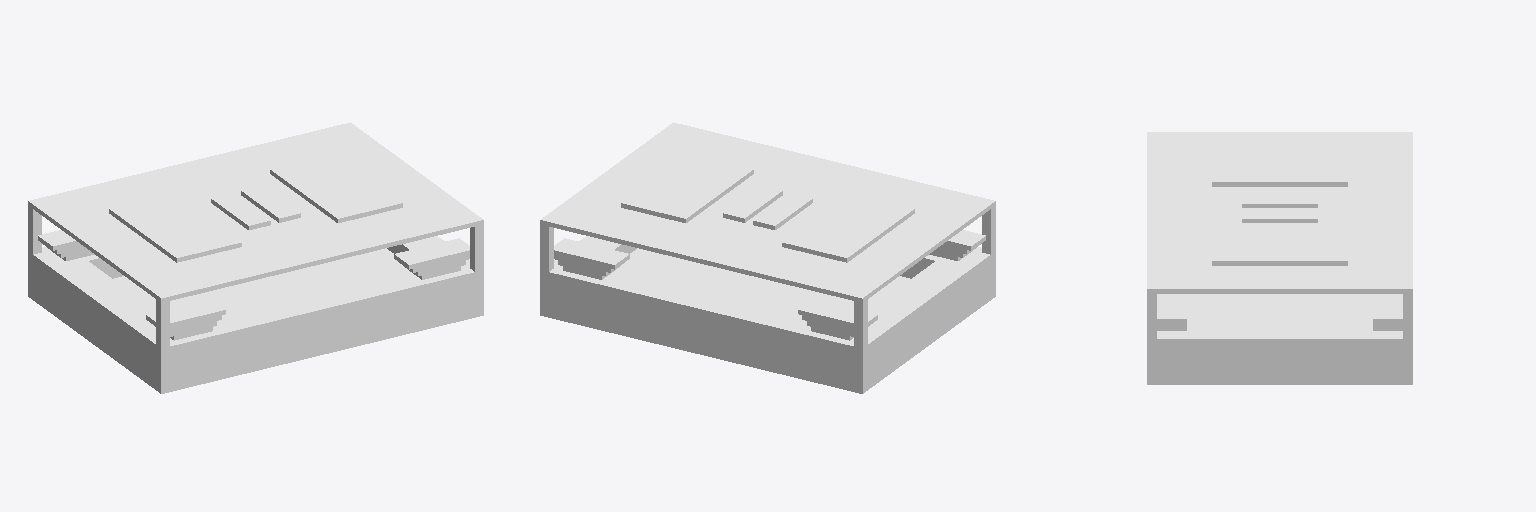
The model's file is Shop.obj.
The picture shows the model from 3 angles: view 1: azimuth 30°, elevation 25°; view 2: azimuth 150°, elevation 25°; view 3: azimuth 270°, elevation 25°; orthographic projection.
Visible parts, largest first — view 1: shop; view 2: shop; view 3: shop.
Part boxes in pixels (left/top/right/bottom): shop: left=28, top=122, right=483, bottom=393; shop: left=540, top=122, right=995, bottom=393; shop: left=1147, top=132, right=1412, bottom=384.
Size of the model in its own units: 14.8 by 4.4 by 10.6.